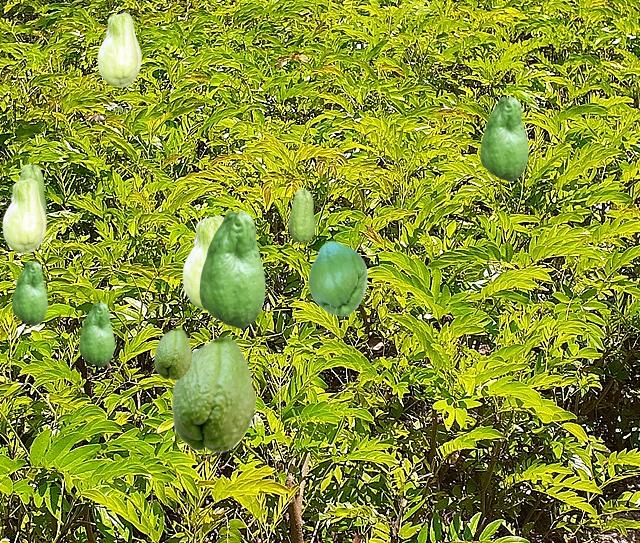sayote: (171, 335, 255, 452), (199, 210, 264, 327), (308, 241, 366, 315), (480, 96, 527, 180), (182, 215, 223, 310), (97, 12, 140, 86), (2, 178, 45, 252), (12, 261, 46, 324), (79, 302, 113, 365), (154, 327, 191, 379), (288, 189, 314, 241), (18, 164, 45, 211)
